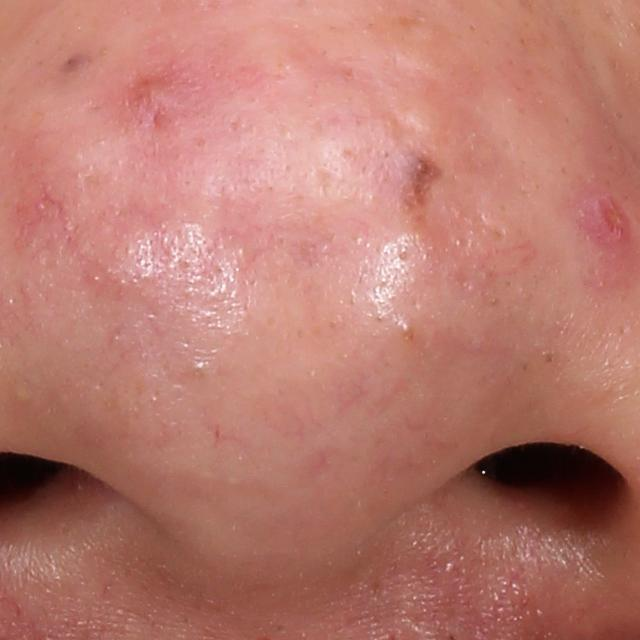nevus: (400, 150, 442, 212)
papule: (571, 186, 630, 249), (130, 75, 182, 125)
